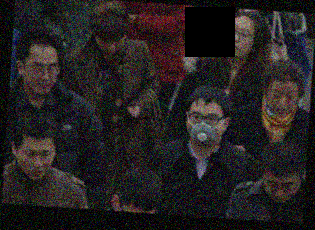with_mask: (185, 108, 224, 147)
without_mask: (17, 143, 54, 180), (23, 56, 58, 94), (221, 20, 254, 60), (260, 174, 301, 205), (264, 84, 297, 116), (97, 34, 124, 55)
